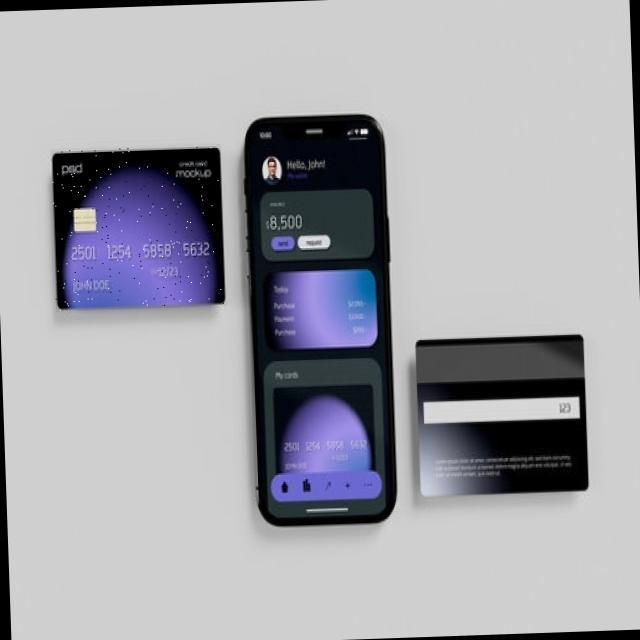payment_card: (414, 334, 591, 498), (51, 146, 225, 309)
